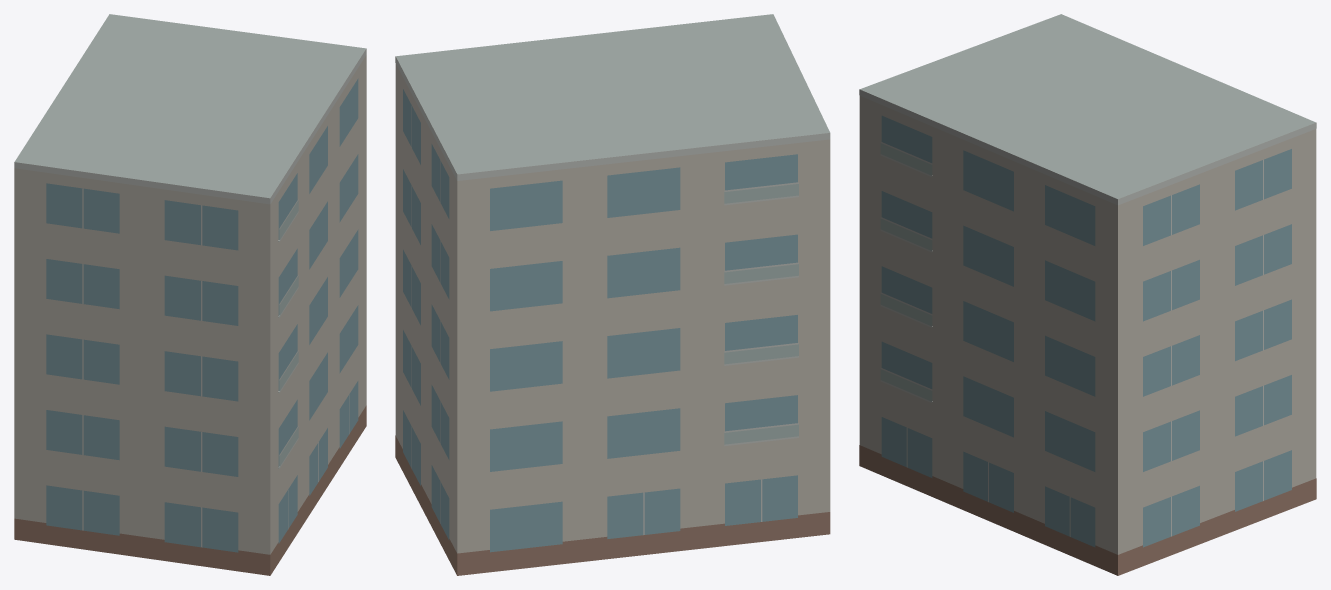
The model's file is survey-upis-32935728.glb.
3 views of the same model, side by side, from view 1: azimuth 30°, elevation 25°; view 2: azimuth 150°, elevation 25°; view 3: azimuth 270°, elevation 25° (orthographic). The views are drawn at different scales.
Parts seen in each view (by area): view 1: survey-upis-32935728.tmp; view 2: survey-upis-32935728.tmp; view 3: survey-upis-32935728.tmp.
Part boxes in pixels (box(x1,y1,x2,y2)): survey-upis-32935728.tmp: box(14, 14, 366, 575); survey-upis-32935728.tmp: box(395, 14, 830, 575); survey-upis-32935728.tmp: box(859, 14, 1316, 575).
Bounding box in the file's own units: 15.72 × 14.9 × 16.39.
